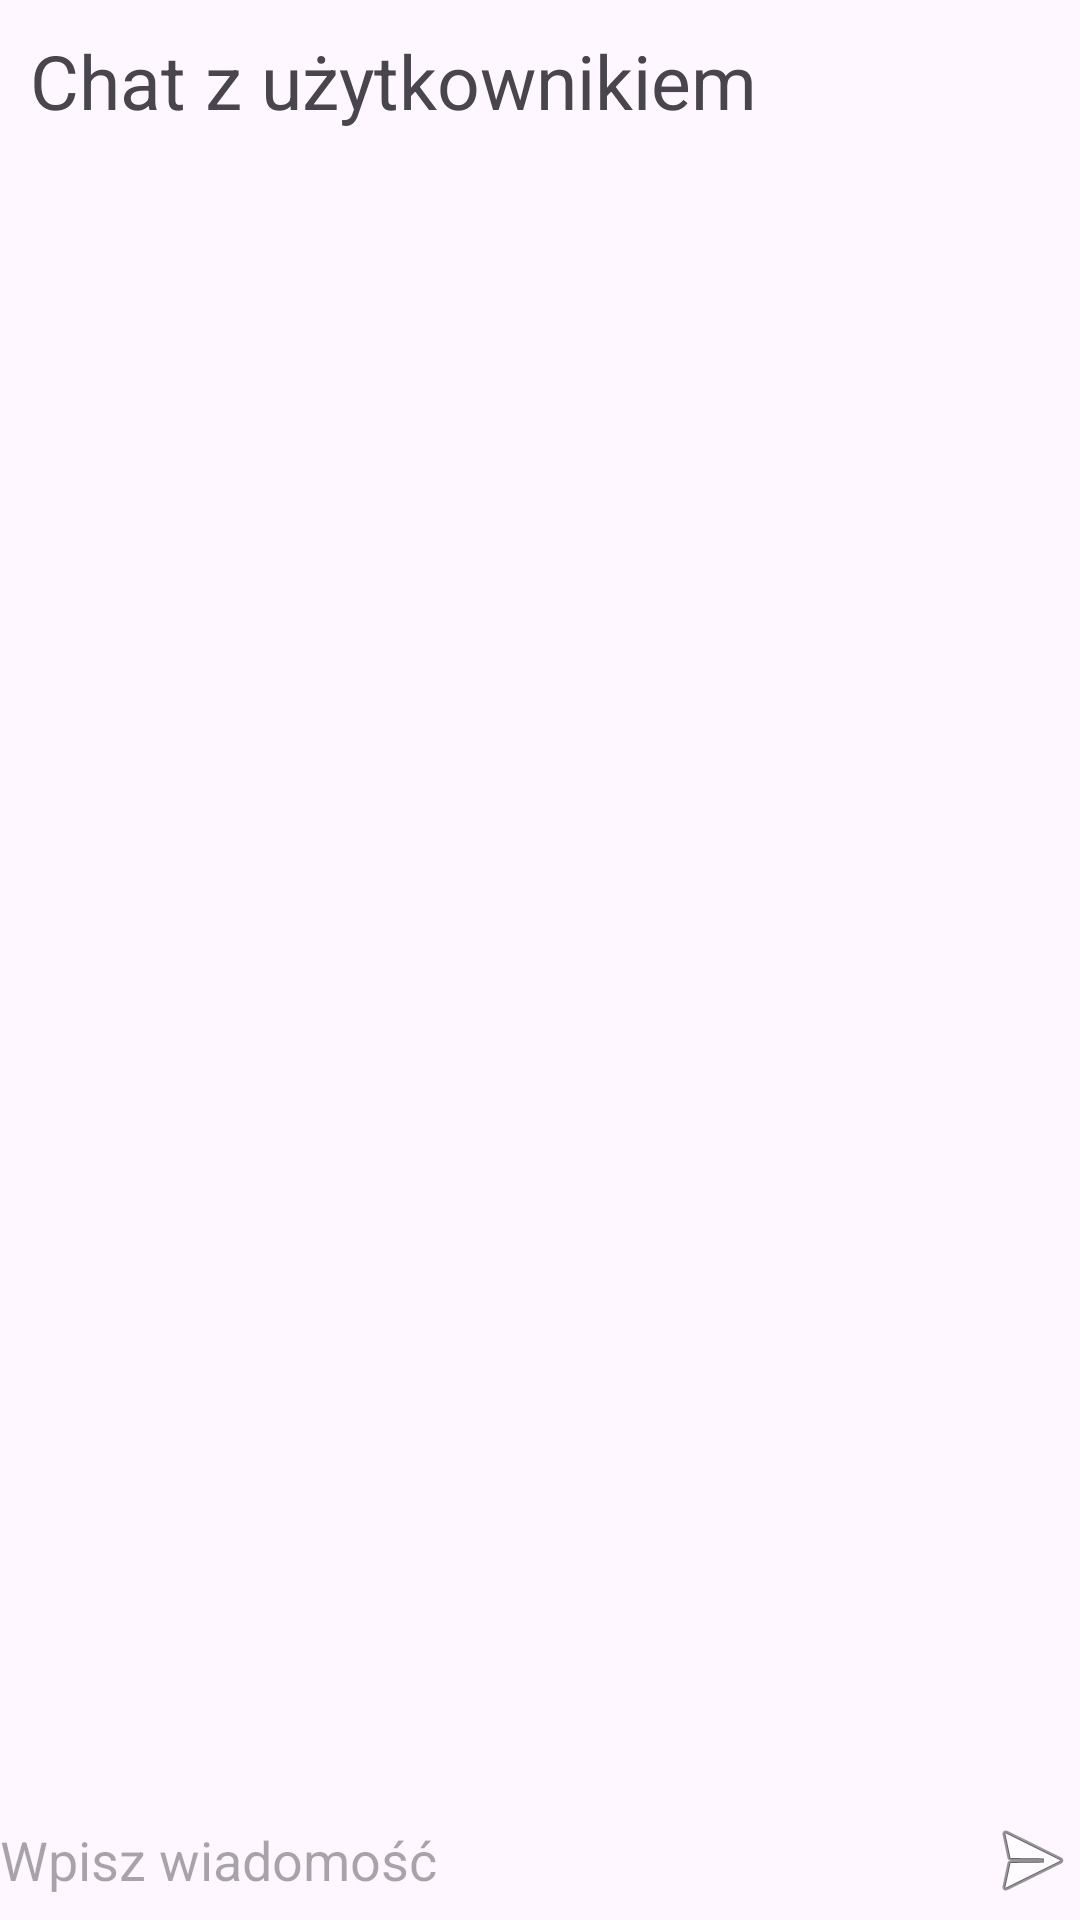

Icons on this 1080px x 1920px Android screen, each with its box as (x1, y1, x2, y2):
Send arrow: (1002, 1830, 1064, 1891)
